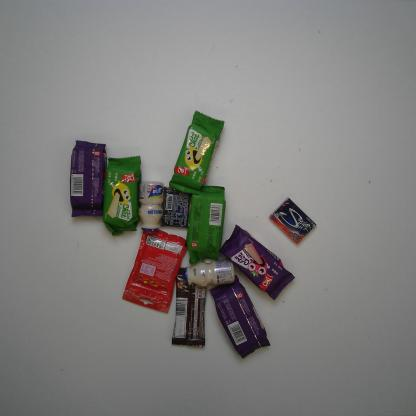Candy: (122, 226, 190, 315)
Chocolate: (168, 262, 208, 350)
Dessert: (218, 225, 296, 301), (209, 277, 272, 361), (168, 108, 225, 196), (100, 154, 145, 236), (66, 139, 108, 220), (185, 183, 226, 264)
Gum: (269, 196, 319, 246), (161, 185, 191, 230)
Milk: (182, 258, 236, 291), (137, 178, 164, 235)
